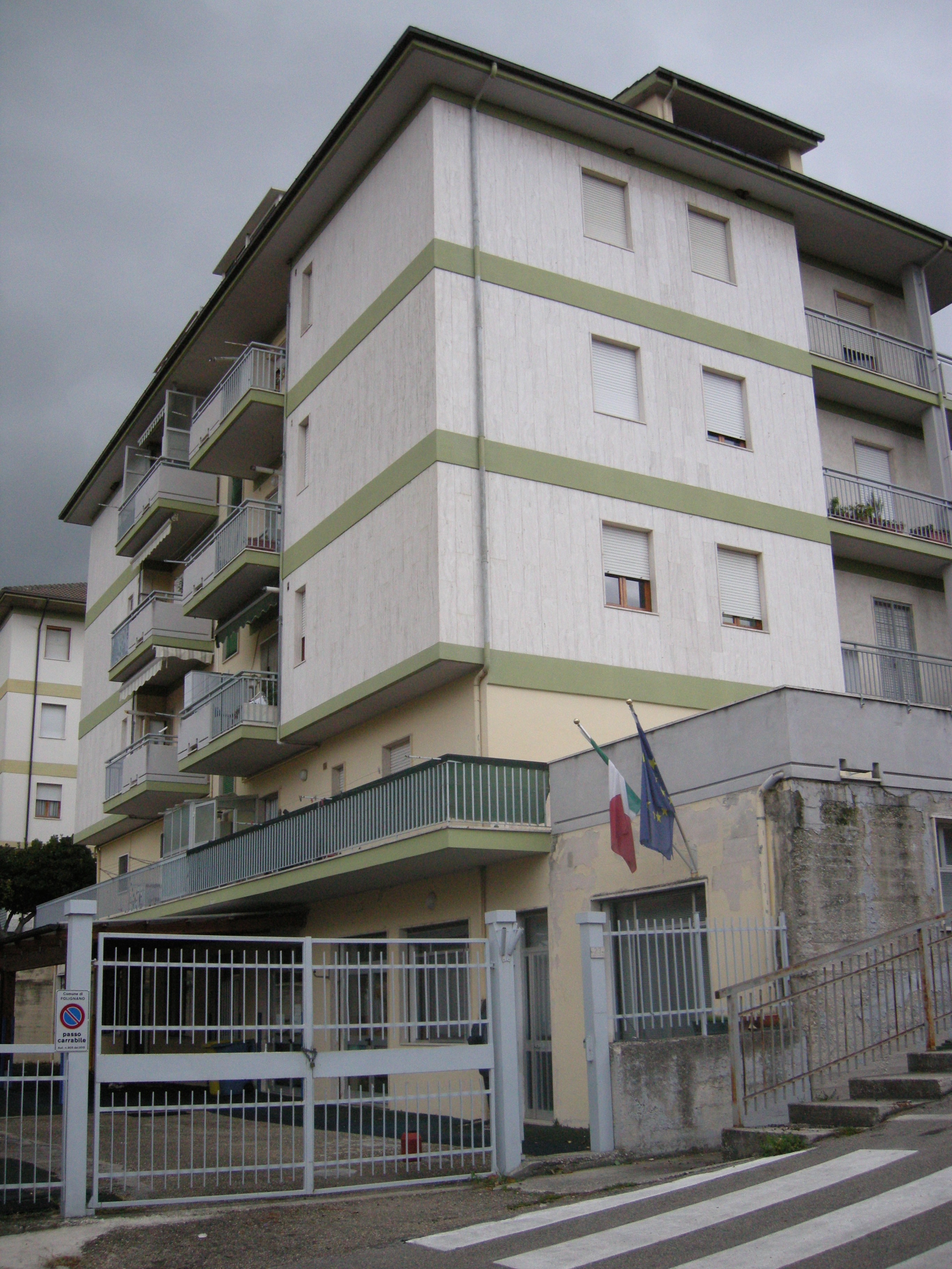Spalling: (617, 780, 939, 1134), (543, 785, 772, 980)
